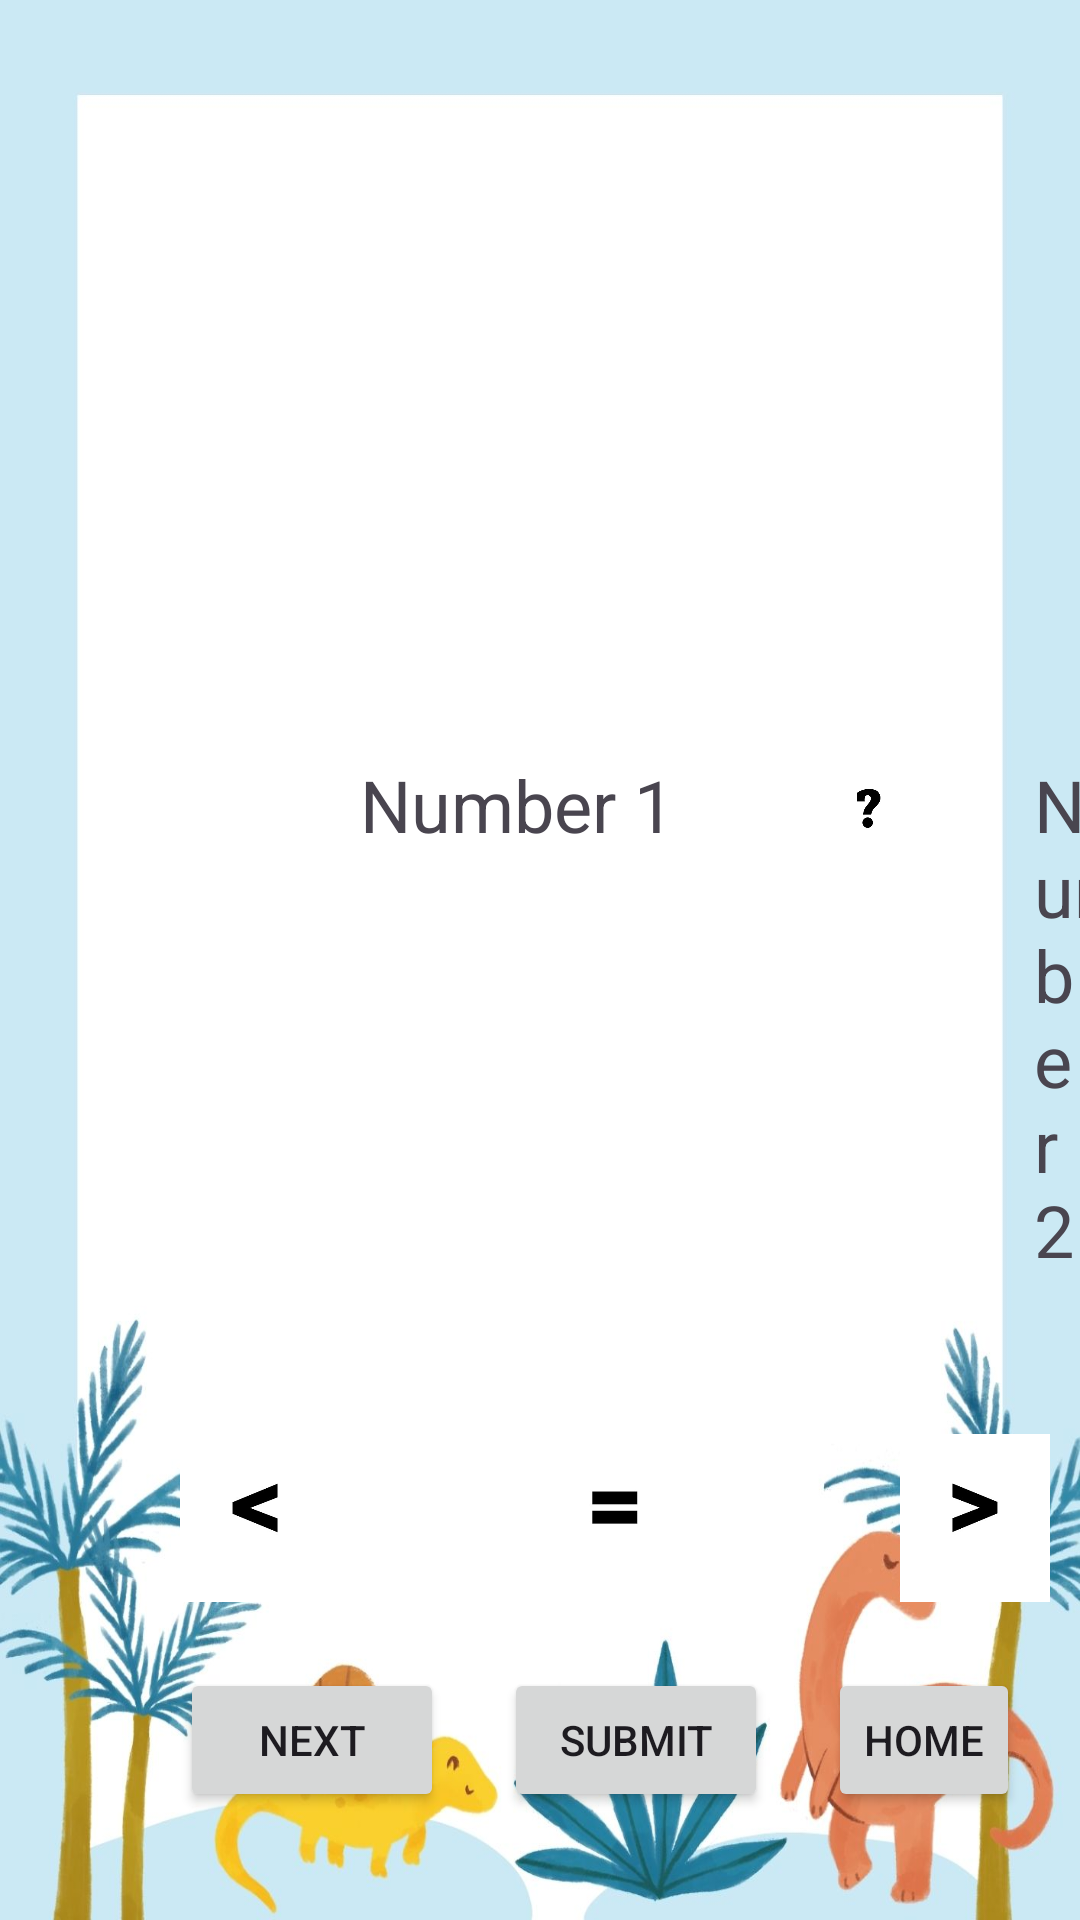

Point at icon controls on the screen. Image size 1080 x 1920, points as (x,y).
equal to Icon: (615,1507)
Less Than Icon: (255,1508)
questionmark: (869,808)
